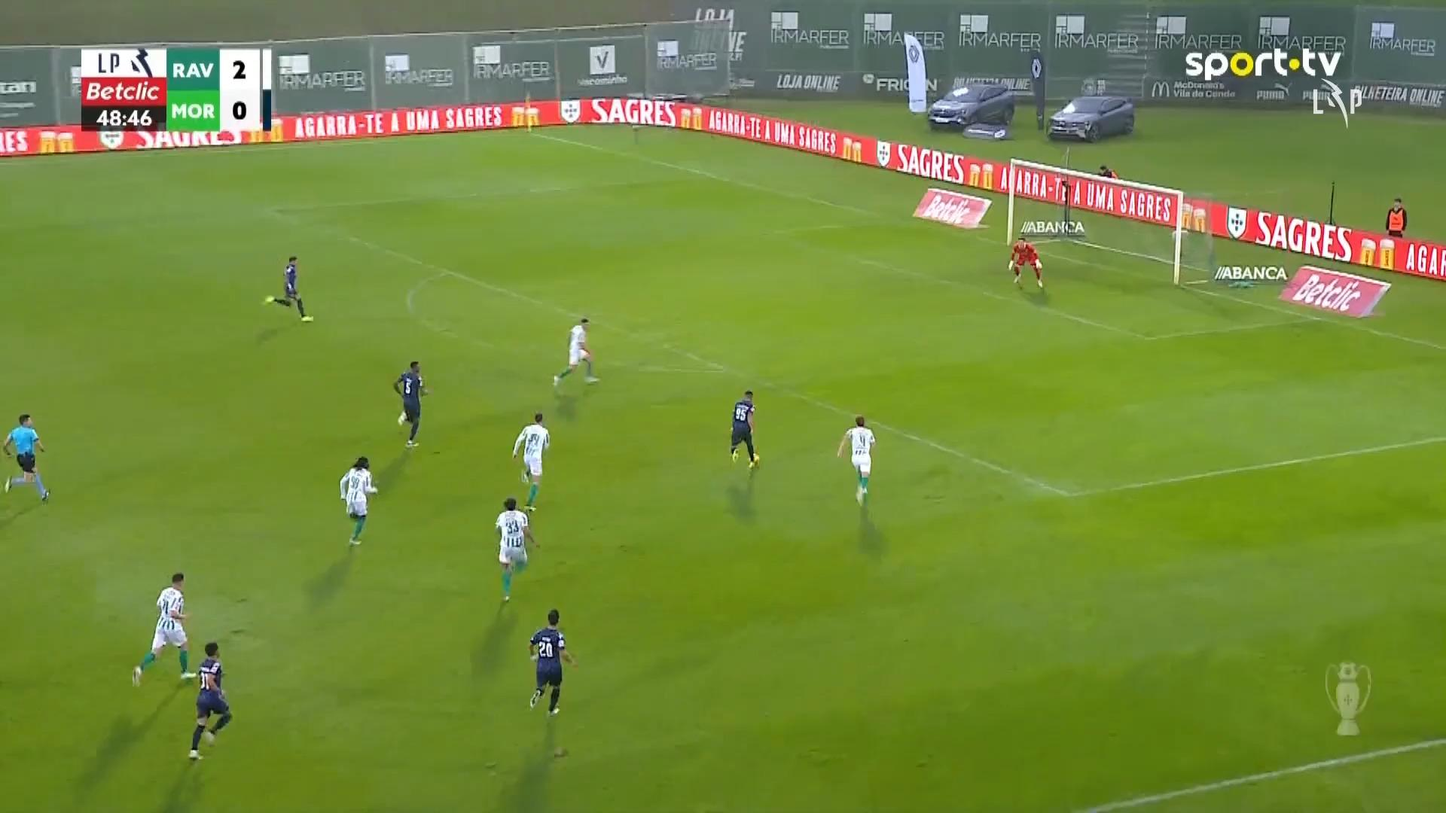ball: (748, 453, 760, 465)
goalkeeper: (1007, 235, 1044, 289)
player: (131, 572, 197, 686), (527, 608, 578, 715), (188, 641, 232, 760), (493, 496, 538, 602), (511, 411, 550, 511), (836, 414, 876, 505), (338, 455, 378, 545), (551, 316, 600, 388), (263, 255, 313, 321), (728, 389, 760, 468)
referee: (1, 413, 50, 503)
